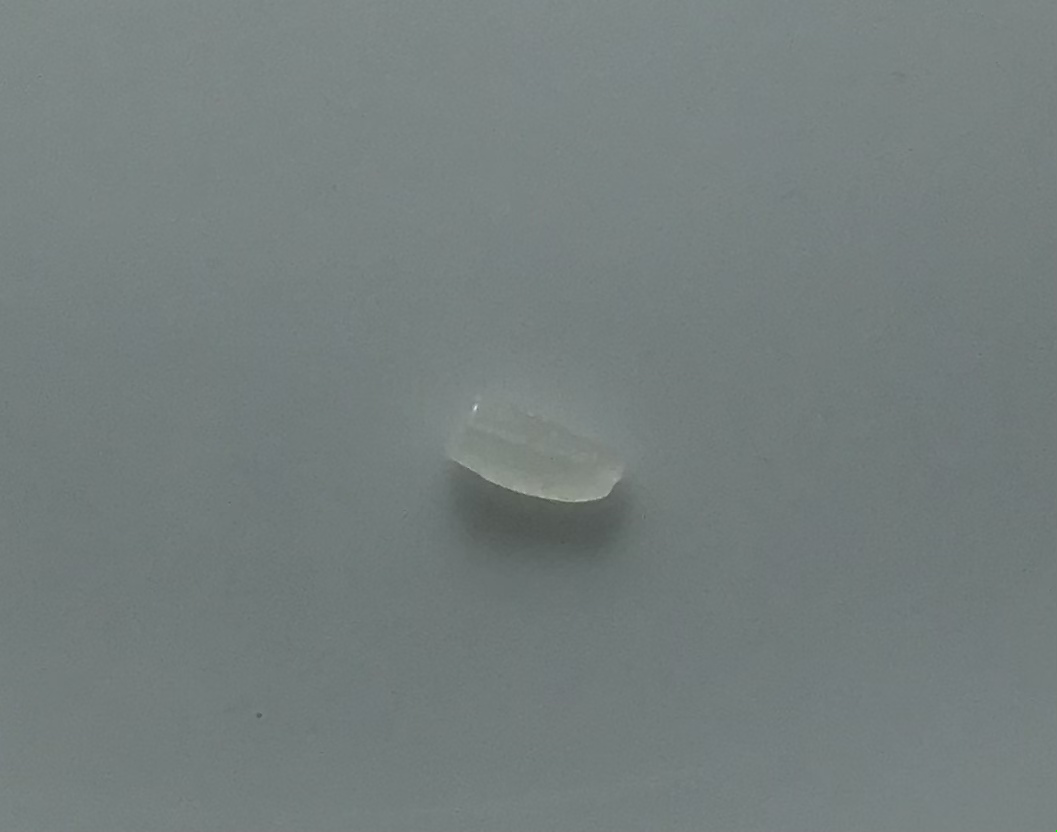Gao Tam: (440, 375, 627, 522)
